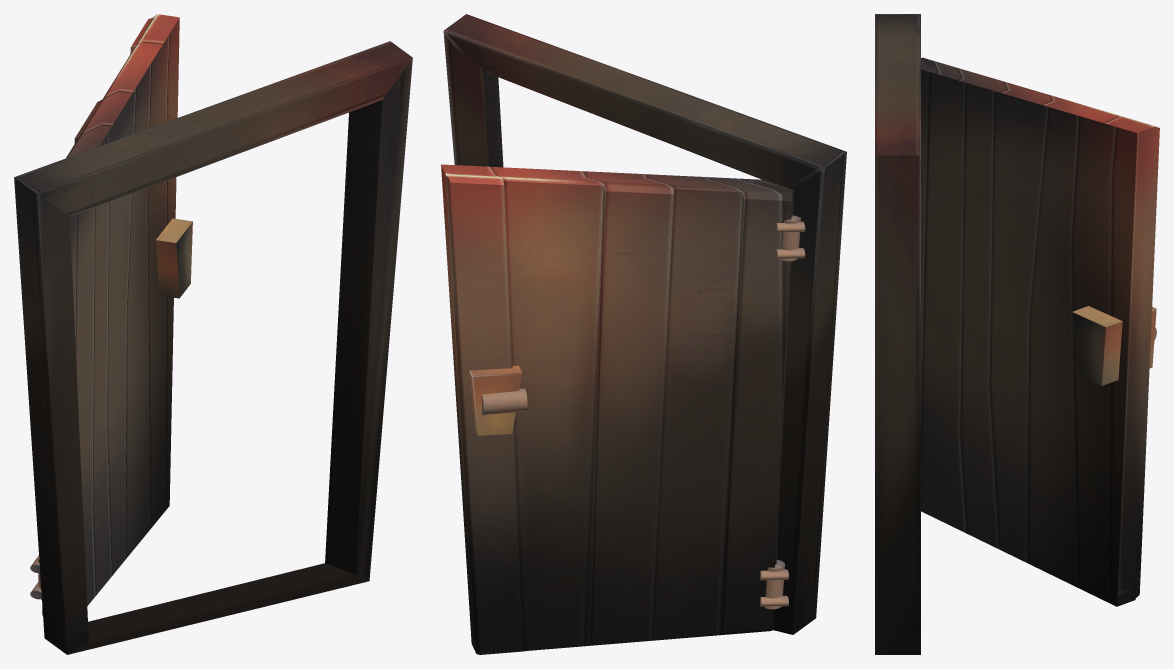
Rendered from deur (1).fbx.
3 views of the same model, side by side, from view 1: azimuth 30°, elevation 25°; view 2: azimuth 150°, elevation 25°; view 3: azimuth 270°, elevation 25° (orthographic).
Parts seen in each view (by area): view 1: pCube454, pCube455; view 2: pCube455, pCube454; view 3: pCube455, pCube454.
Boxes of the visible parts, x1,y1,x2,y2 form: pCube454: [14, 41, 412, 654]; pCube455: [30, 14, 192, 615]; pCube455: [441, 164, 805, 654]; pCube454: [443, 14, 846, 634]; pCube455: [921, 57, 1159, 606]; pCube454: [875, 14, 920, 654].
Size of the model in its own units: 6.59 by 8.59 by 4.25.
